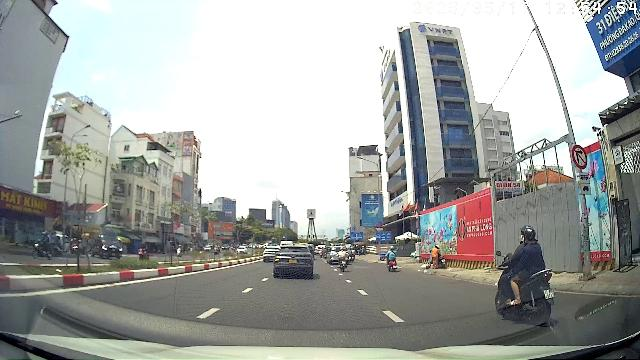123b-cam-re-phai: (570, 144, 588, 170)
